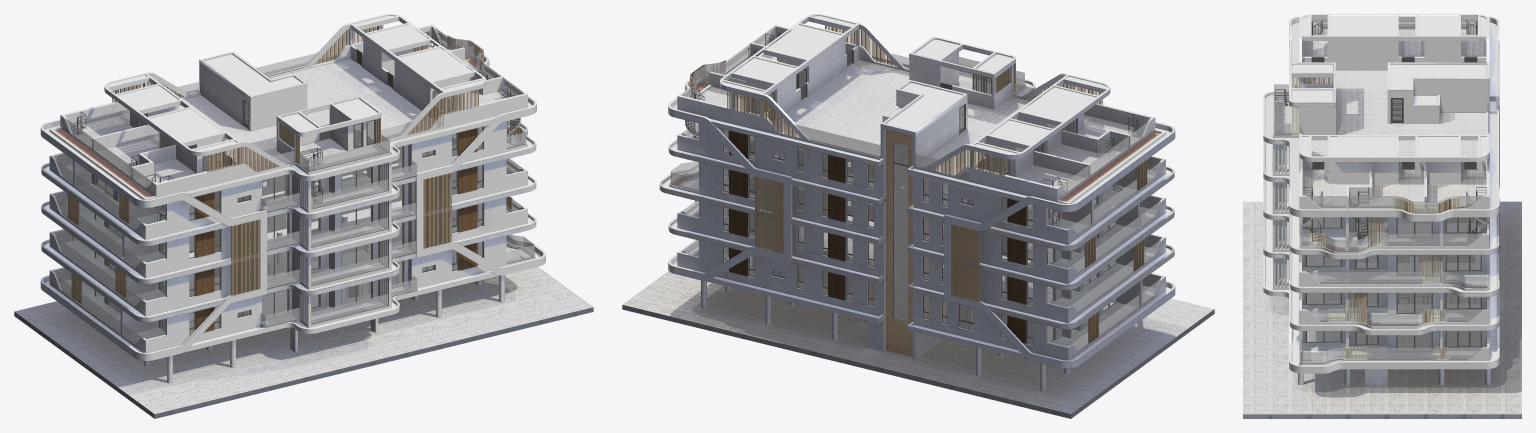
File: type-a-1024.glb
The picture shows the model from 3 angles, left to right: view 1: azimuth 30°, elevation 25°; view 2: azimuth 150°, elevation 25°; view 3: azimuth 270°, elevation 25°; orthographic projection. The views are drawn at different scales.
Visible parts, largest first — view 1: Groun_ Floor001, ROOF_SHADE, RAILING - 017, ROOF_FLOOR, ROOF_DOORS000, ROOF_BOONGALOS_CENTER, WOOD_RAILING_01, FLOOR_04_L, FLOOR_02_L, FLOOR_03_L, BELT_L, FLOOR_01_R (+17 smaller); view 2: Groun_ Floor001, ROOF_SHADE, ROOF_FLOOR, ROOF_DOORS000, ROOF_BOONGALOS_CENTER, WOOD_RAILING_01, RAILING - 017, FLOOR_01_R, FLOOR_04_L, BELT_L, WOOD_PANNELS_001, FLOOR_02_R (+19 smaller); view 3: Groun_ Floor001, ROOF_FLOOR, ROOF_SHADE, ROOF_BOONGALOS_CENTER, ROOF_DOORS000, RAILING - 017, ROOF_BUNGALOS_01, WOOD_RAILING_01, BELT_R, FLOOR_03, FLOOR_002, FLOOR_04 (+16 smaller).
Part boxes in pixels (left/top/right/bottom): Groun_ Floor001: left=14, top=221, right=593, bottom=418; ROOF_SHADE: left=49, top=14, right=527, bottom=199; RAILING - 017: left=54, top=27, right=534, bottom=343; ROOF_FLOOR: left=45, top=38, right=532, bottom=199; ROOF_DOORS000: left=71, top=31, right=520, bottom=335; ROOF_BOONGALOS_CENTER: left=176, top=51, right=495, bottom=197; WOOD_RAILING_01: left=68, top=25, right=522, bottom=304; FLOOR_04_L: left=49, top=128, right=392, bottom=239; FLOOR_02_L: left=49, top=191, right=408, bottom=316; FLOOR_03_L: left=49, top=163, right=391, bottom=278; BELT_L: left=40, top=119, right=267, bottom=360; FLOOR_01_R: left=237, top=165, right=535, bottom=327; Groun_ Floor001: left=622, top=220, right=1214, bottom=418; ROOF_SHADE: left=677, top=14, right=1165, bottom=203; ROOF_FLOOR: left=672, top=40, right=1170, bottom=203; ROOF_DOORS000: left=685, top=31, right=1143, bottom=344; ROOF_BOONGALOS_CENTER: left=710, top=37, right=1035, bottom=201; WOOD_RAILING_01: left=690, top=25, right=1147, bottom=343; RAILING - 017: left=670, top=27, right=1161, bottom=351; FLOOR_01_R: left=677, top=187, right=1007, bottom=316; FLOOR_04_L: left=912, top=130, right=1165, bottom=244; BELT_L: left=944, top=122, right=1175, bottom=368; WOOD_PANNELS_001: left=729, top=130, right=1026, bottom=343; FLOOR_02_R: left=677, top=148, right=908, bottom=280; Groun_ Floor001: left=1243, top=201, right=1521, bottom=418; ROOF_FLOOR: left=1265, top=22, right=1497, bottom=212; ROOF_SHADE: left=1299, top=14, right=1489, bottom=212; ROOF_BOONGALOS_CENTER: left=1263, top=41, right=1499, bottom=189; ROOF_DOORS000: left=1275, top=19, right=1486, bottom=351; RAILING - 017: left=1274, top=16, right=1488, bottom=363; ROOF_BUNGALOS_01: left=1302, top=41, right=1486, bottom=183; WOOD_RAILING_01: left=1289, top=77, right=1499, bottom=359; BELT_R: left=1289, top=187, right=1499, bottom=373; FLOOR_03: left=1275, top=182, right=1486, bottom=284; FLOOR_002: left=1275, top=217, right=1481, bottom=322; FLOOR_04: left=1275, top=144, right=1481, bottom=246.
Size of the model in its own units: 39.02 by 19.31 by 21.63.
Materials: 45 (36 with a texture image).
